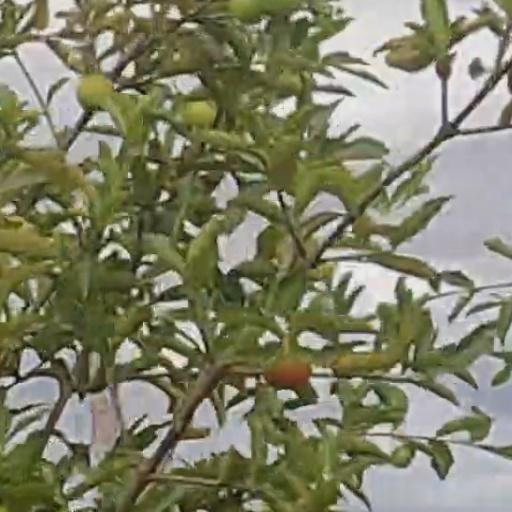acerola_verde: (79, 77, 114, 108), (186, 102, 218, 128)
acerola_vermelha: (266, 357, 310, 388)
